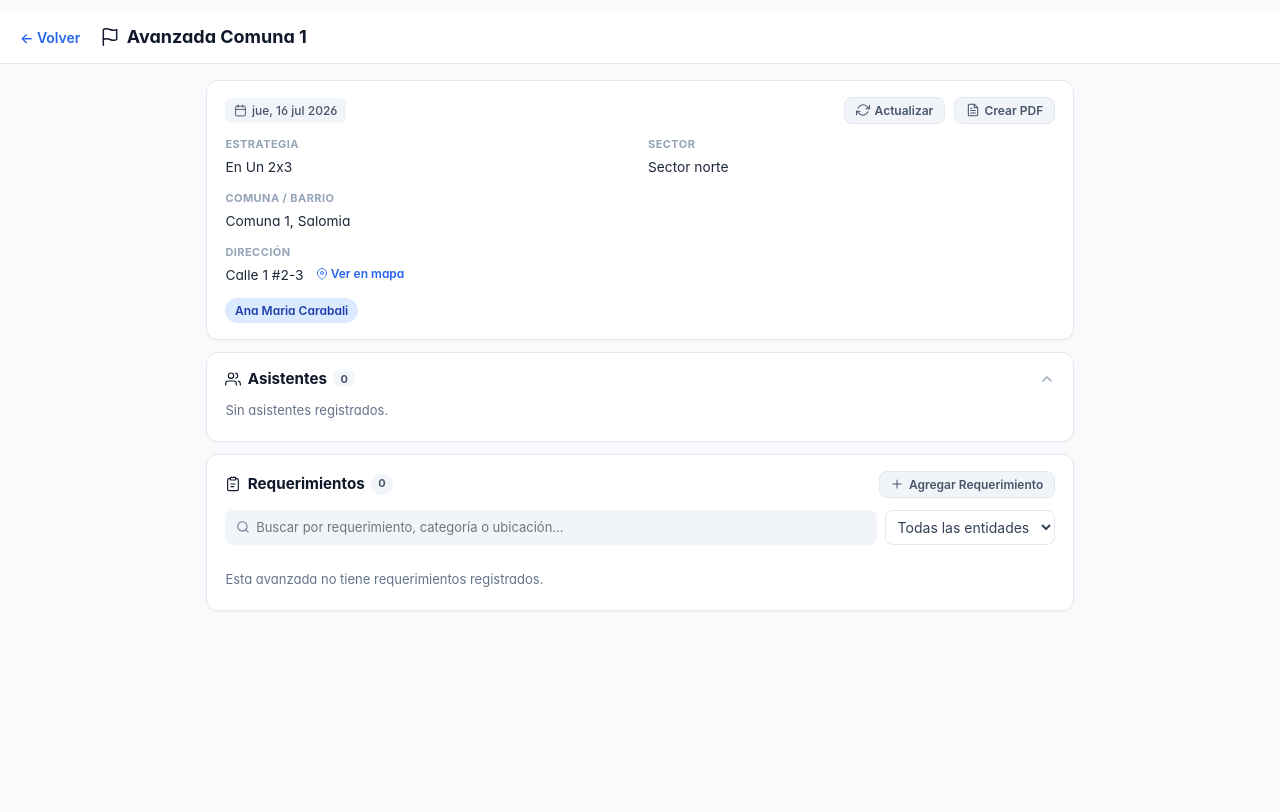
Scenario: DetalleAvanzada › summary section › shows an inline error if the PDF download fails
The image size is (1280, 812).
Click the button "Crear PDF" at (1004, 110), box [954,97,1055,124]
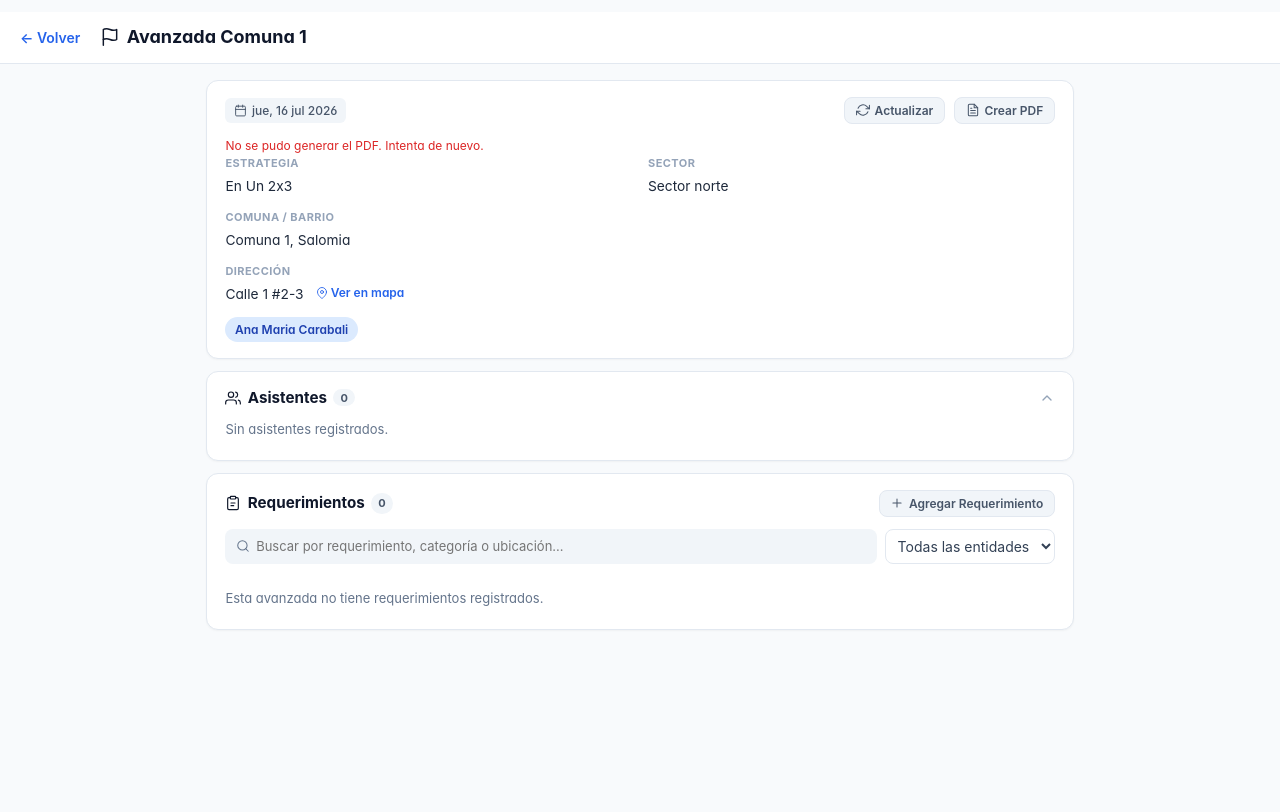
Expected: the text "No se pudo generar el PDF. Intenta de nuevo." is shown, [225,138,484,153]
